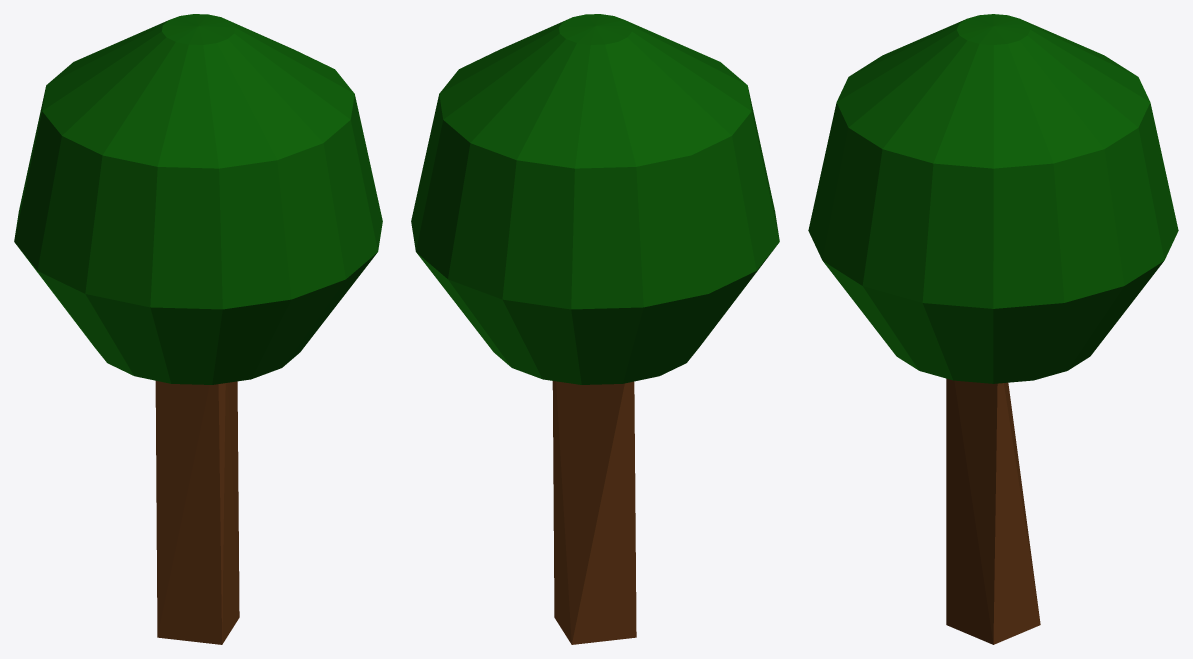
Rendered from Tree_LowPoly.fbx.
The picture shows the model from 3 angles, left to right: view 1: azimuth 30°, elevation 25°; view 2: azimuth 150°, elevation 25°; view 3: azimuth 270°, elevation 25°; orthographic projection.
Visible parts, largest first — view 1: Leaves, Trunk; view 2: Leaves, Trunk; view 3: Leaves, Trunk.
Part boxes in pixels (box(x1,y1,x2,y2)): Leaves: box(14, 14, 382, 384); Trunk: box(155, 381, 239, 644); Leaves: box(411, 14, 779, 384); Trunk: box(552, 381, 636, 644); Leaves: box(808, 14, 1178, 383); Trunk: box(946, 378, 1040, 644).
Size of the model in its own units: 785 by 1400 by 785.
